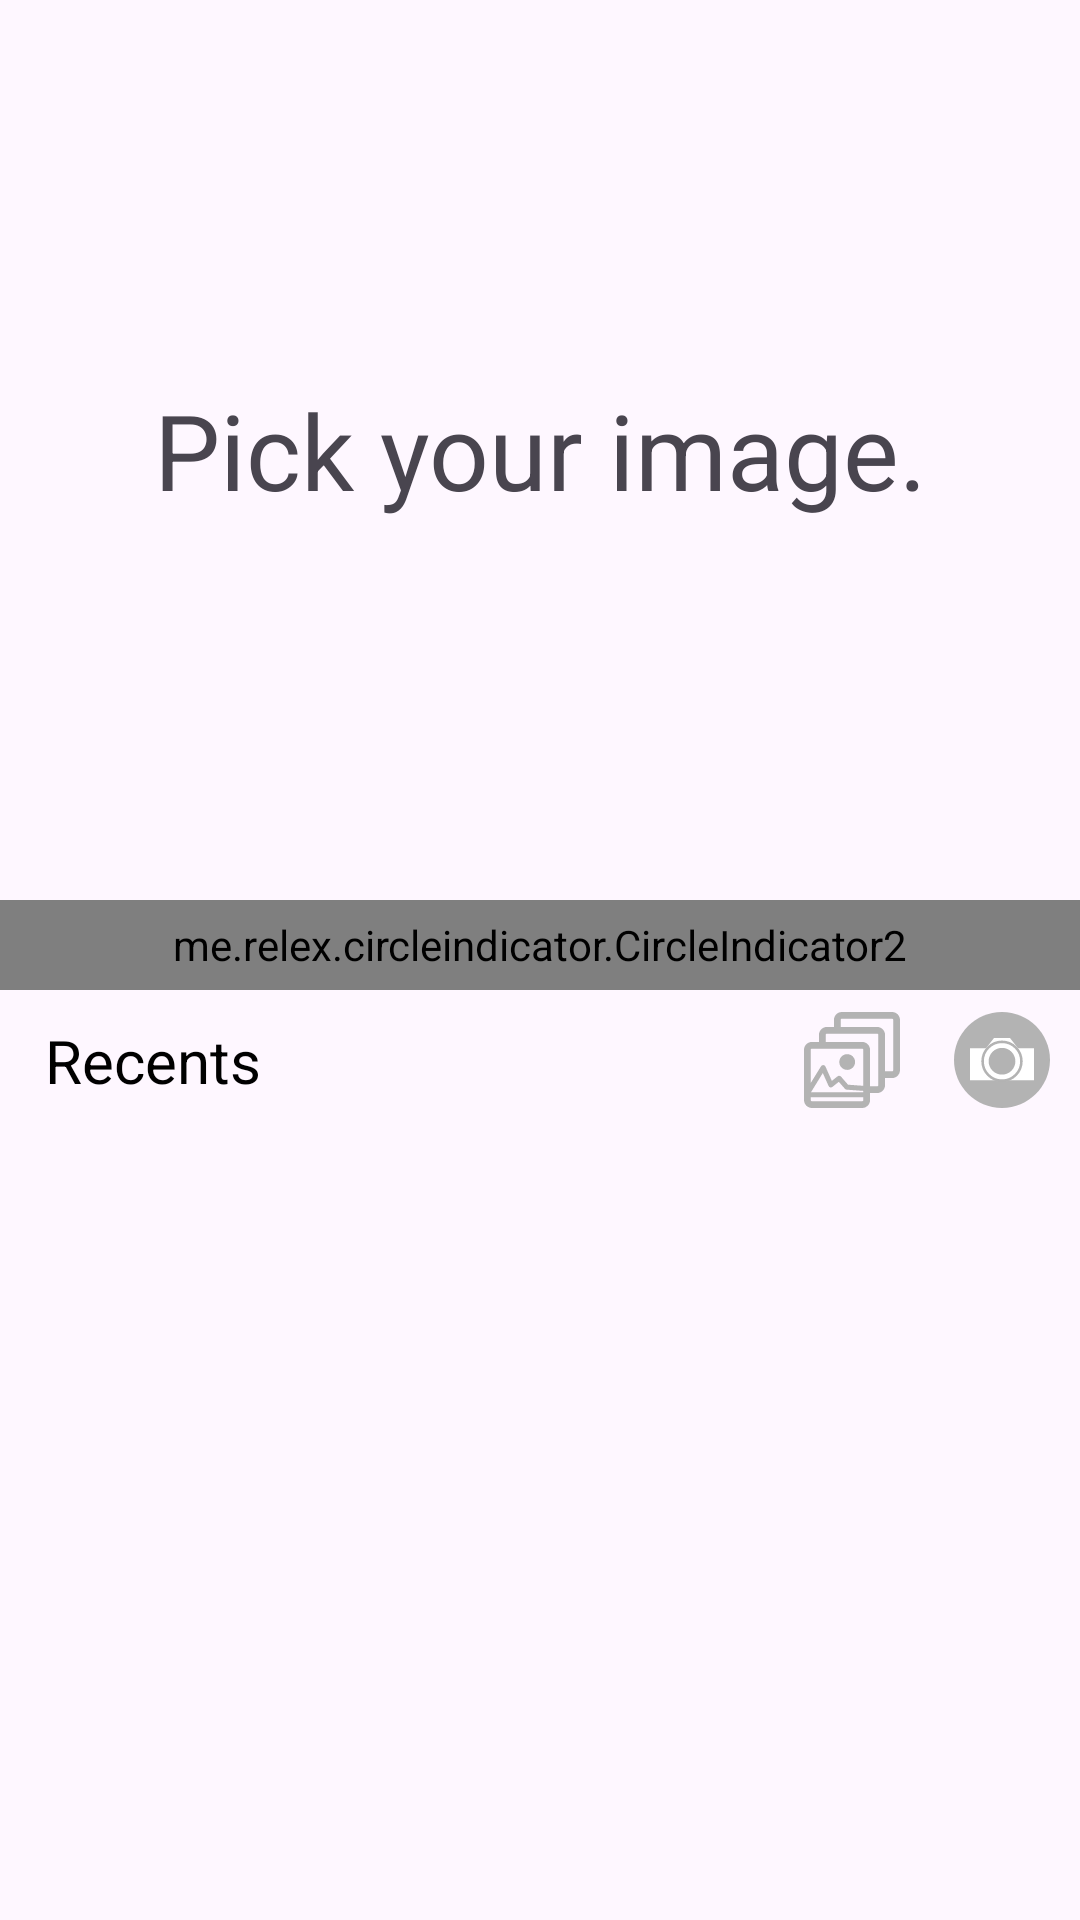

Locate icon controls on the screen. Image size 1080w x 1920h, boxes as (x1, y1, x2, y2).
camera: (954, 1012, 1050, 1108)
